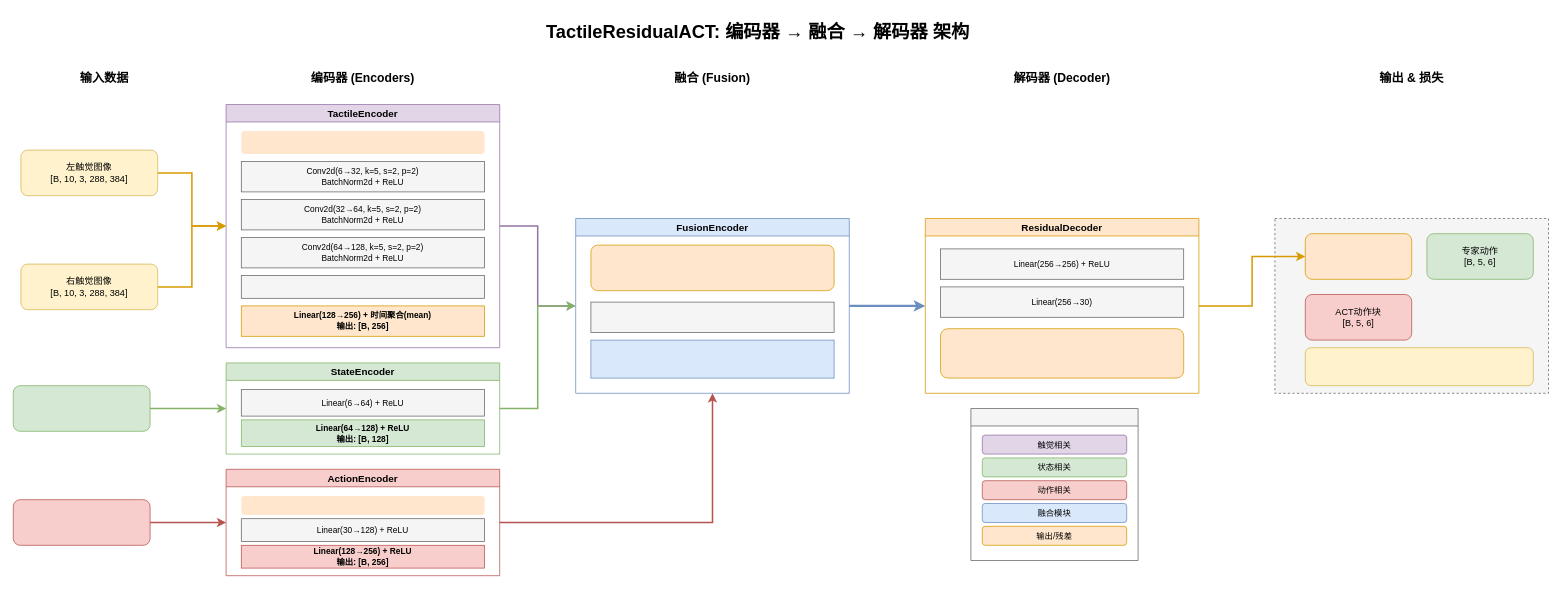
The diagram is 1562 pixels wide and 589 high, and some of its shapes have lost their labels. Each missing label, with the box of its shape:
ACT 动作块 [B, 5, 6]: (13, 499, 150, 545)
AdaptiveAvgPool2d(1×1): (241, 275, 484, 298)
Concatenate 特征 触觉[256] + 状态[128] + 动作[256] = [B, 640]: (590, 244, 834, 291)
Linear(512→256) + ReLU 输出融合特征 [B, 256]: (590, 339, 834, 378)
Linear(640→512) + ReLU: (590, 301, 834, 332)
Reshape: [B, 30] → [B, 5, 6] 残差动作 Δaction: (940, 328, 1184, 378)
Reshape: [B, 5, 6] → [B, 30]: (241, 496, 484, 515)
图例: (970, 408, 1138, 560)
机器人状态 [B, 6]: (13, 385, 150, 431)
目标残差: Δtarget = 专家动作 - ACT动作 损失函数: Loss = MSE(Δpred, Δtarget): (1305, 347, 1533, 386)
通道拼接: [B, 10, 6, 288, 384]: (241, 131, 484, 154)
预测残差 Δpred [B, 5, 6]: (1305, 233, 1412, 279)
